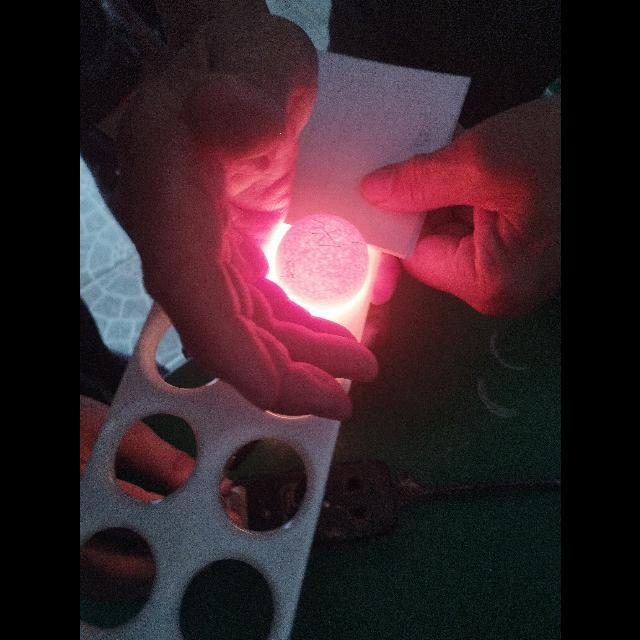Infertile: (282, 221, 370, 297)
